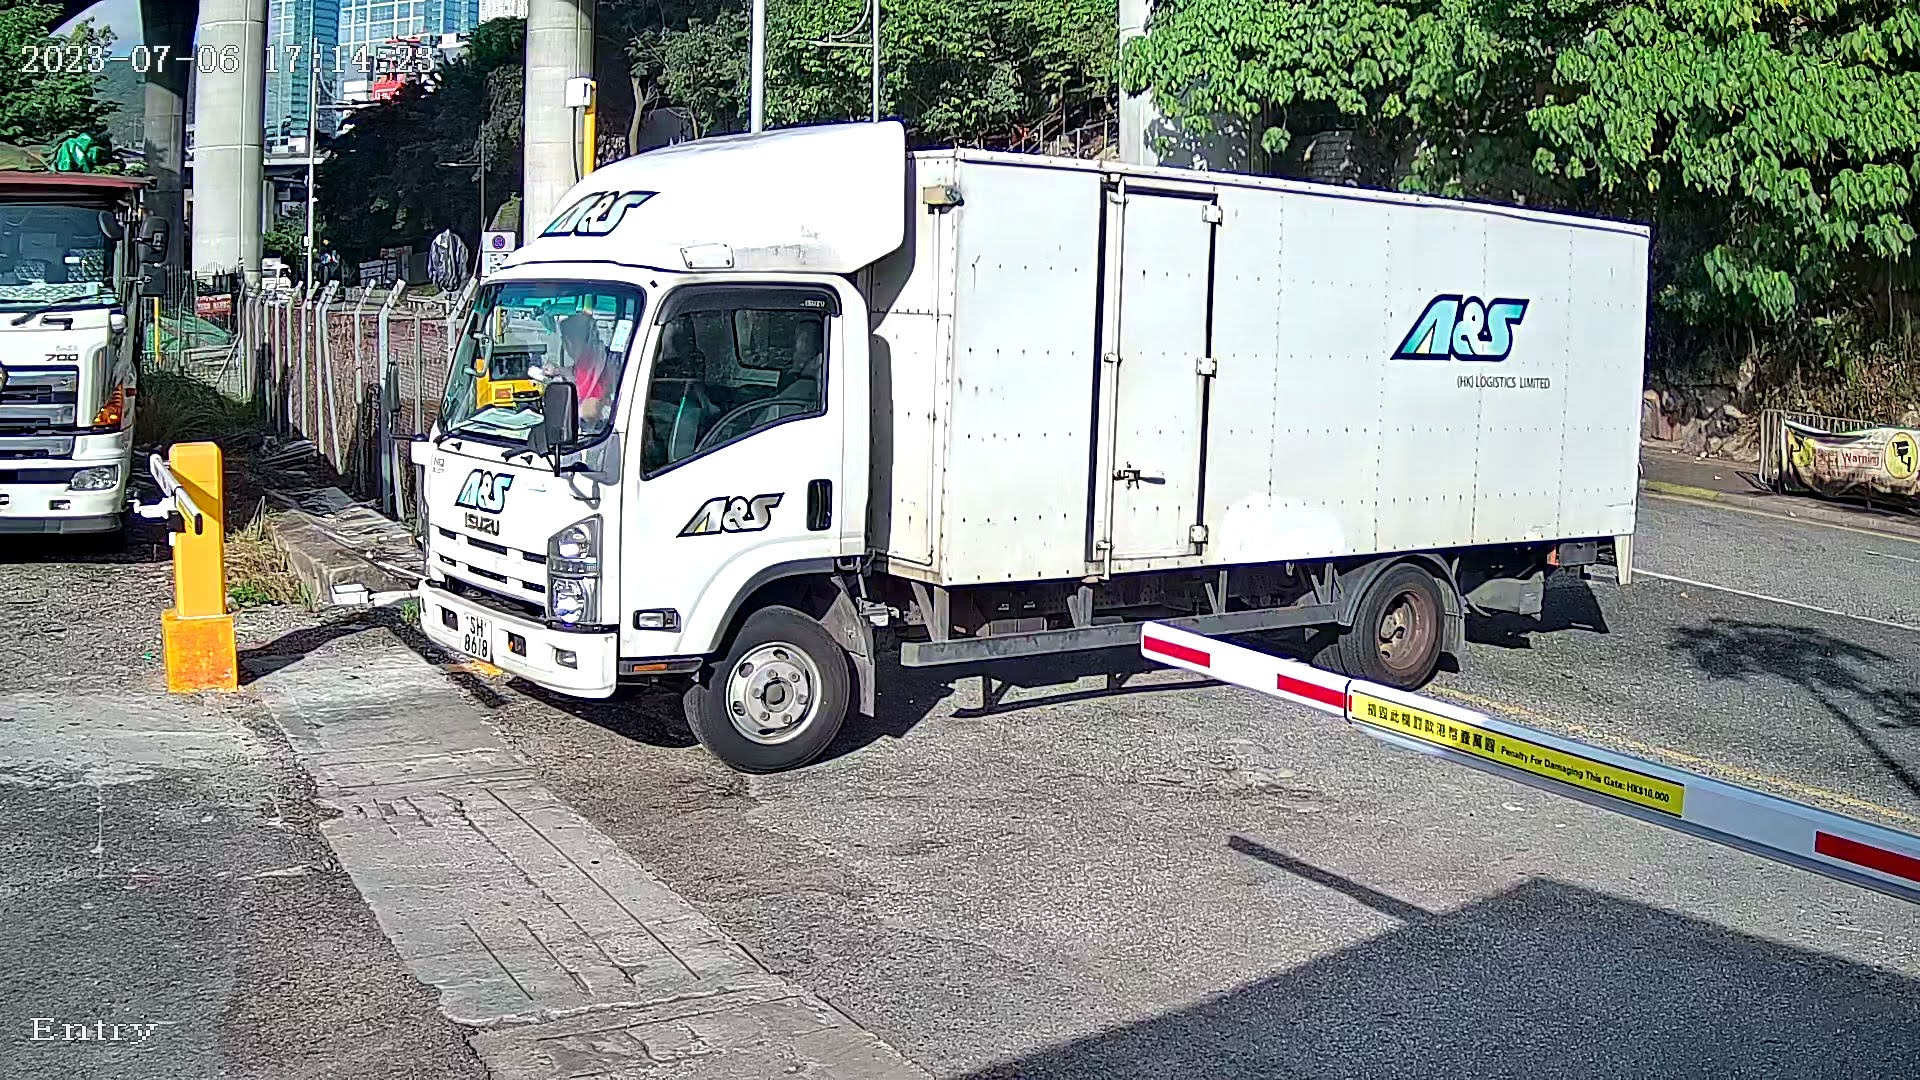truck_small: (352, 75, 1706, 822)
